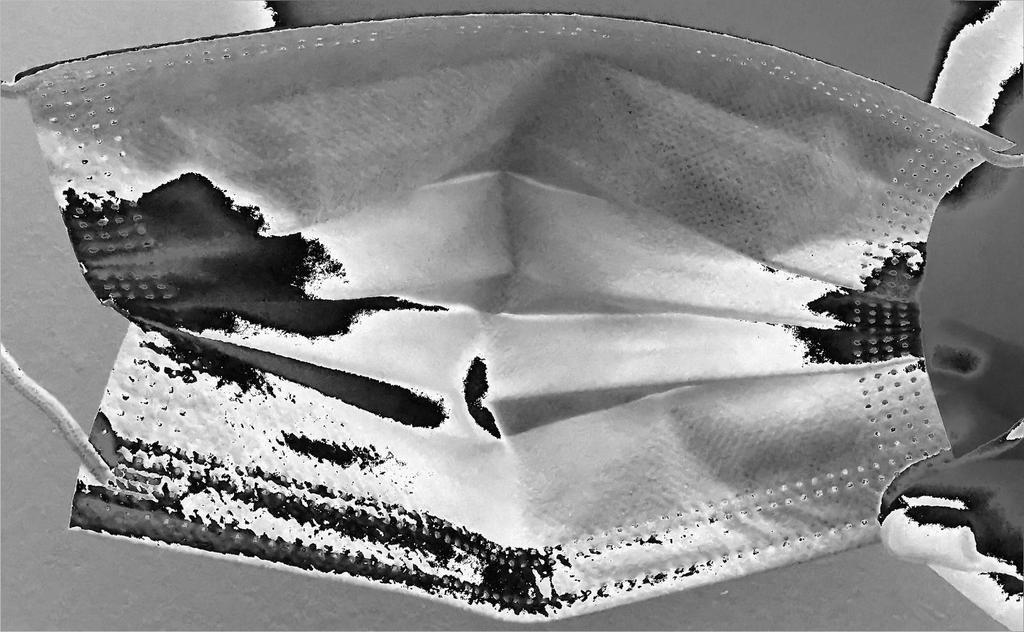High GSM: (134, 53, 878, 522)
